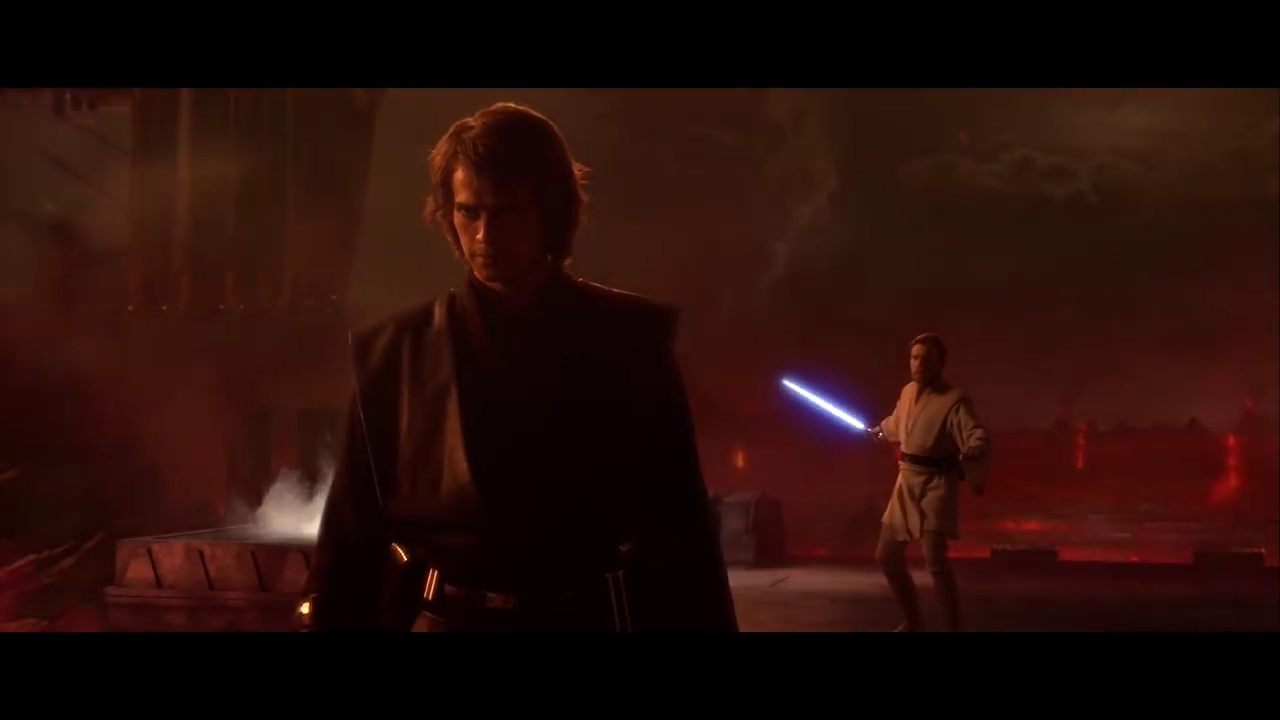lightsaber: (772, 376, 890, 436)
